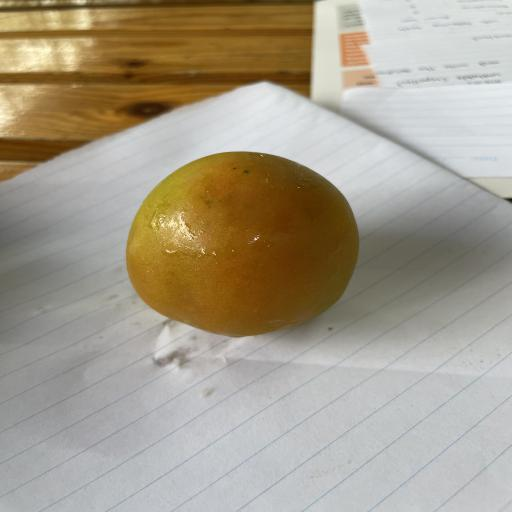unripe: (126, 152, 359, 336)
